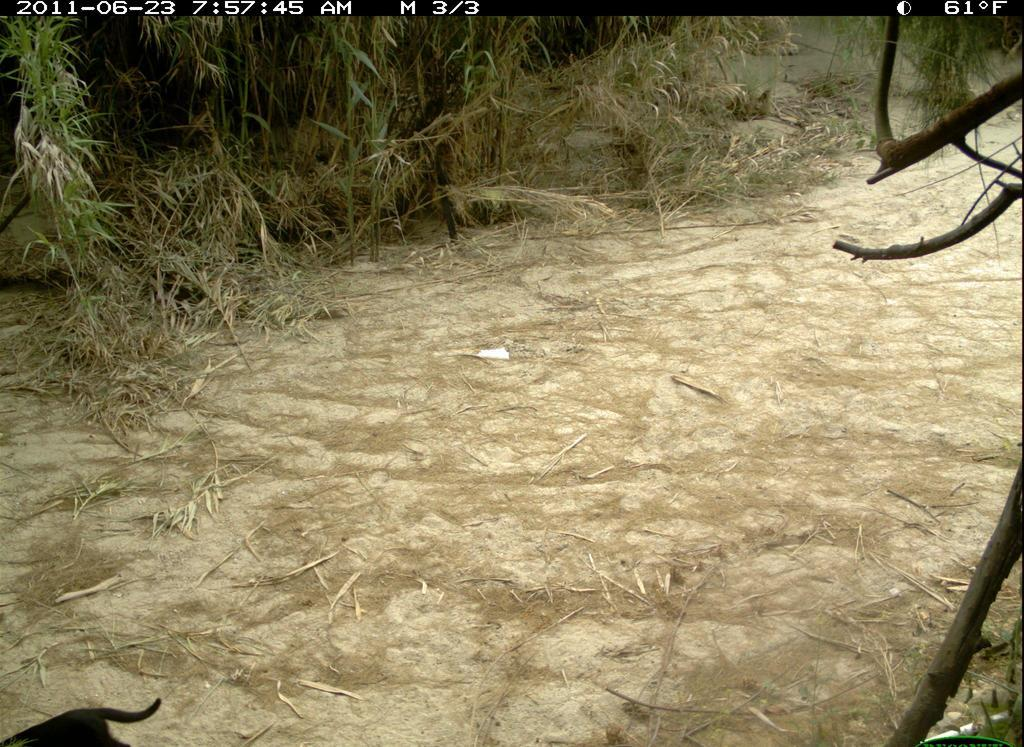cat: (4, 680, 173, 747)
